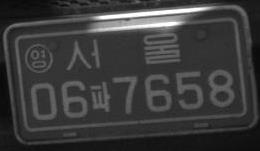0: (29, 82, 57, 122)
5: (175, 70, 203, 111)
6: (144, 72, 172, 113), (60, 79, 88, 119)
7: (112, 74, 138, 114)
8: (207, 68, 235, 108)
서울_D: (66, 31, 181, 71)
영: (24, 43, 52, 74)
파: (88, 80, 111, 113)
